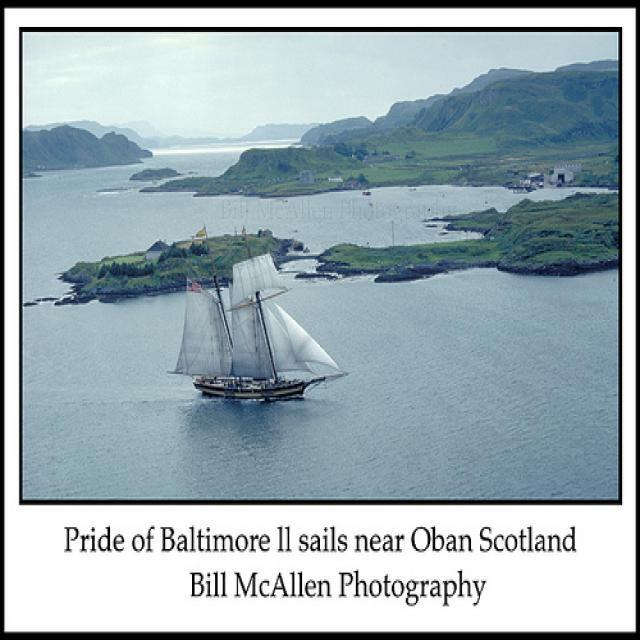Ship: (177, 233, 347, 405)
